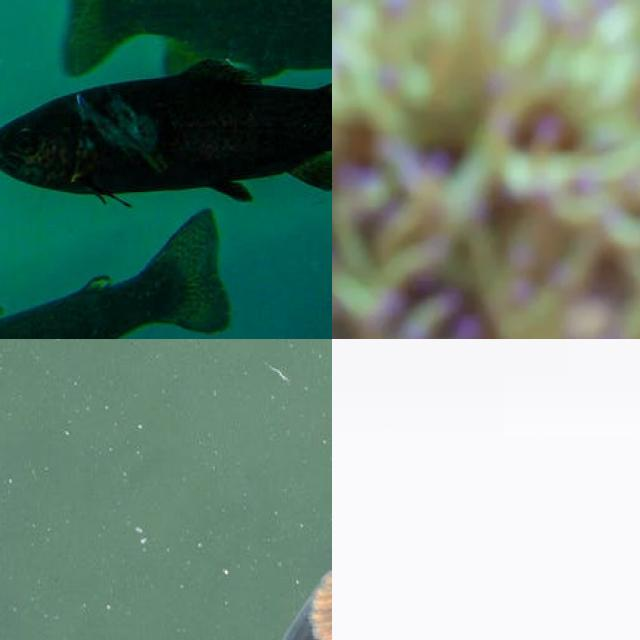fish: (0, 0, 332, 339), (332, 0, 640, 339), (332, 339, 640, 490), (181, 339, 332, 640)
